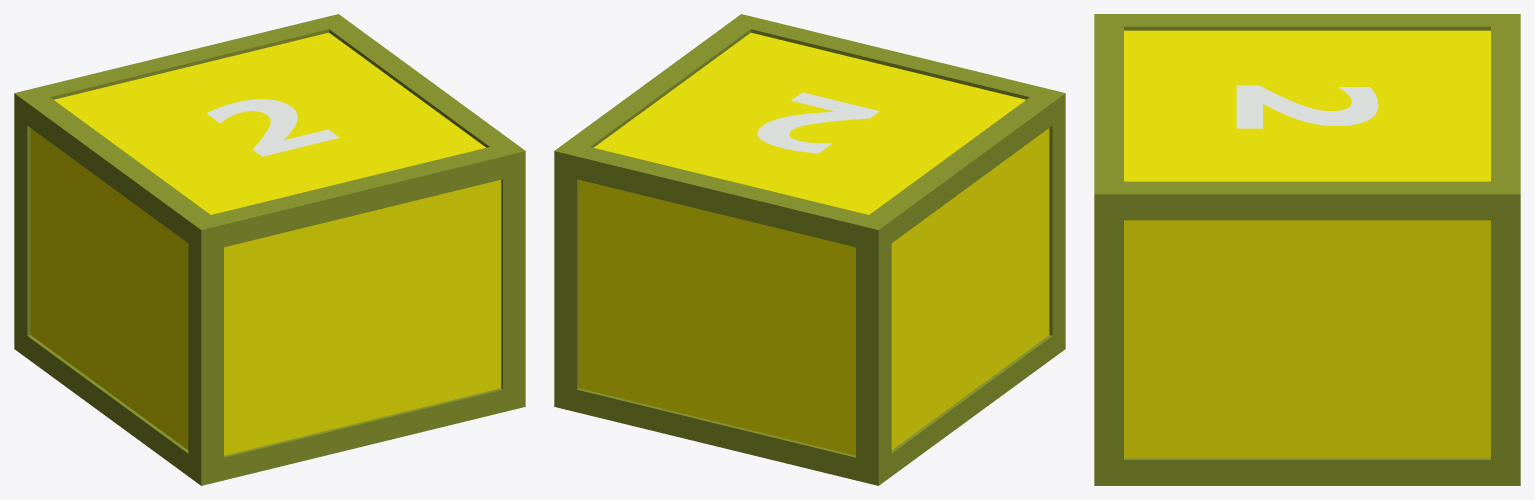
Rendered from 2Prefab.fbx.
3 views of the same model, side by side, from view 1: azimuth 30°, elevation 25°; view 2: azimuth 150°, elevation 25°; view 3: azimuth 270°, elevation 25° (orthographic). The views are drawn at different scales.
Visible parts, largest first — view 1: ScoreTxt_2; view 2: ScoreTxt_2; view 3: ScoreTxt_2.
Part boxes in pixels (x1,y1,x2,y2): ScoreTxt_2: (14, 14, 525, 485); ScoreTxt_2: (554, 14, 1065, 485); ScoreTxt_2: (1094, 14, 1520, 485).
Bounding box in the file's own units: 194 × 146 × 194.
